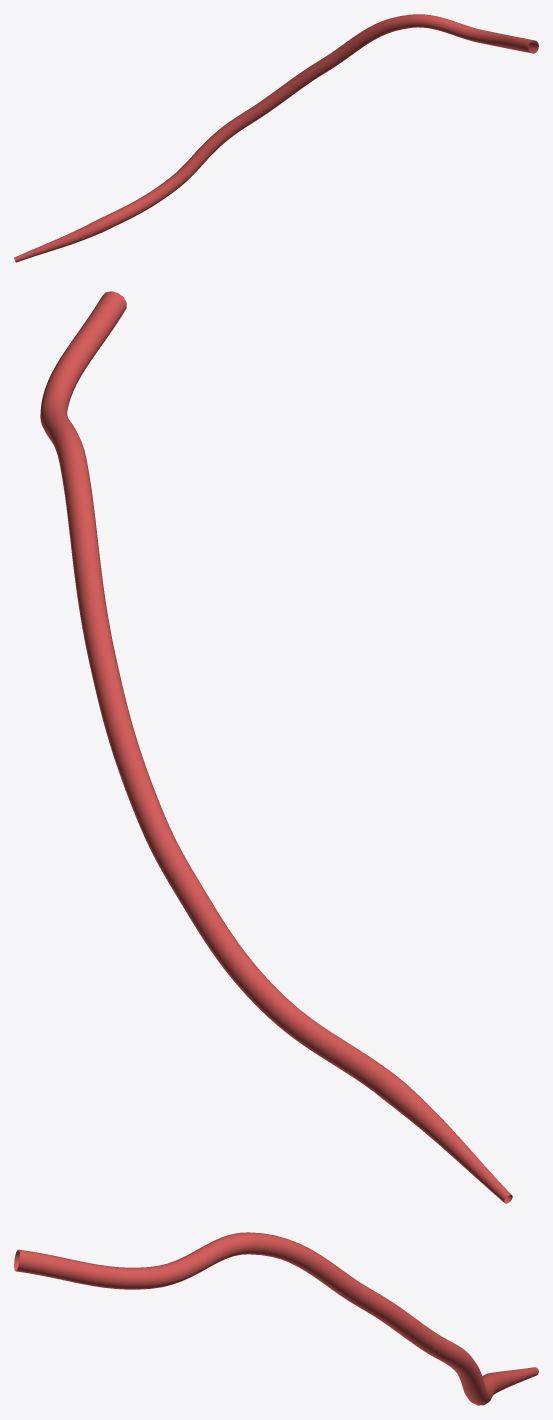
3 views of the same model, one above another, from view 1: azimuth 30°, elevation 25°; view 2: azimuth 150°, elevation 25°; view 3: azimuth 270°, elevation 25° (orthographic). The views are drawn at different scales.
Parts seen in each view (by area): view 1: 左侧下唇动脉; view 2: 左侧下唇动脉; view 3: 左侧下唇动脉.
Boxes of the visible parts, x1,y1,x2,y2 form: 左侧下唇动脉: [14, 14, 538, 262]; 左侧下唇动脉: [40, 291, 512, 1203]; 左侧下唇动脉: [14, 1232, 538, 1405].
Bounding box in the file's own units: 0.0454 × 0.03 × 0.0351.
